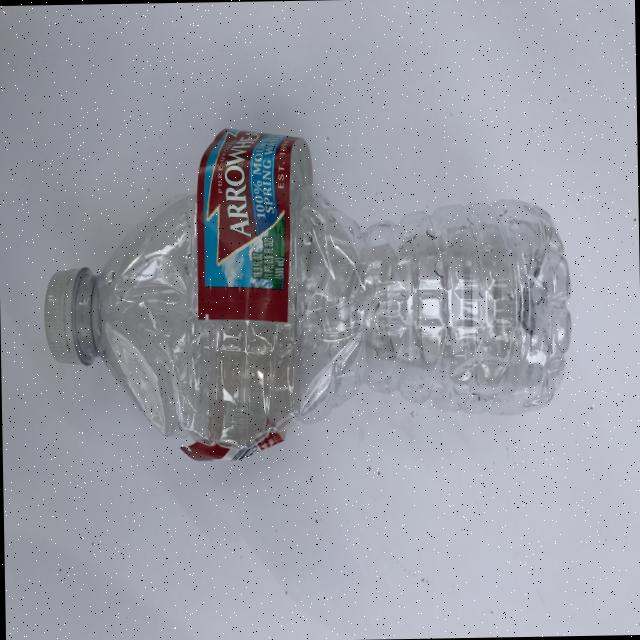plastic: (40, 122, 574, 465)
